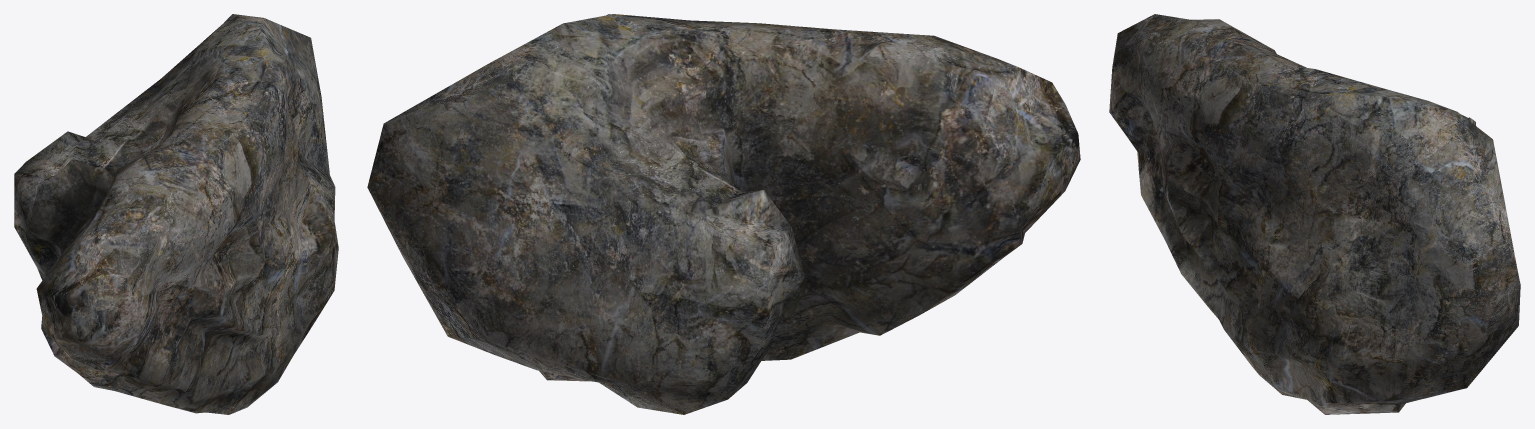
Rendered from Rock_3.glb.
The picture shows the model from 3 angles, left to right: view 1: azimuth 30°, elevation 25°; view 2: azimuth 150°, elevation 25°; view 3: azimuth 270°, elevation 25°; orthographic projection. The views are drawn at different scales.
Visible parts, largest first — view 1: rock_03; view 2: rock_03; view 3: rock_03.
Part boxes in pixels (x1=…): rock_03: x1=14, y1=14, x2=338, y2=414; rock_03: x1=367, y1=14, x2=1080, y2=414; rock_03: x1=1109, y1=14, x2=1520, y2=414.
Bounding box in the file's own units: 1.39 × 1 × 1.13.
Materials: 1 (1 with a texture image).
